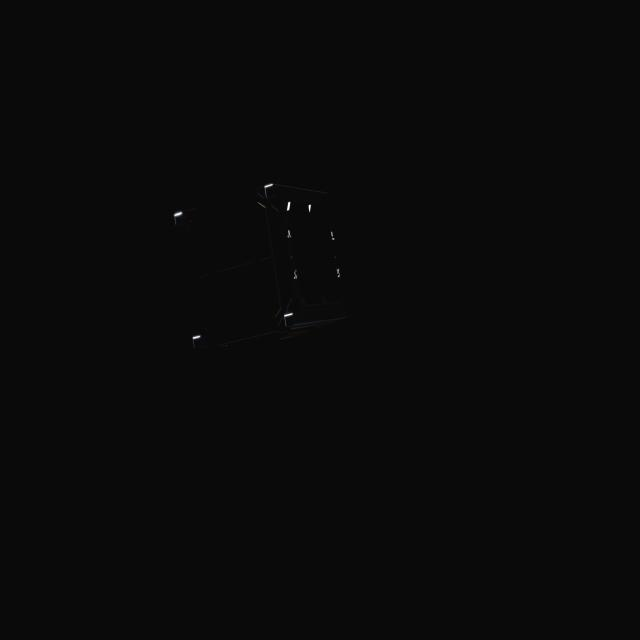satellite: (160, 167, 358, 372)
